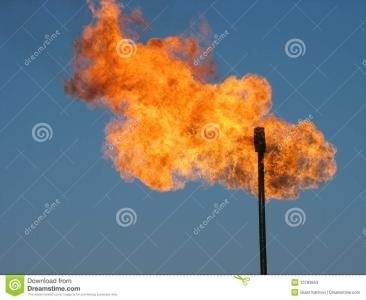fire: (70, 17, 339, 202)
